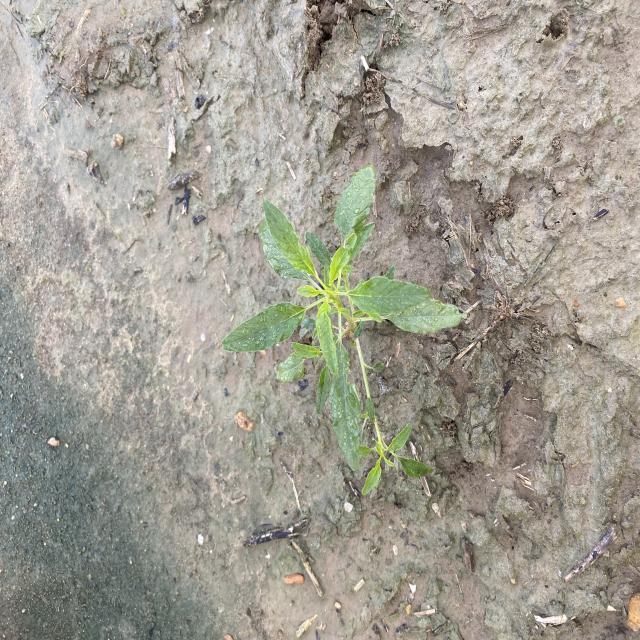Waterhemp: (220, 164, 469, 498)
